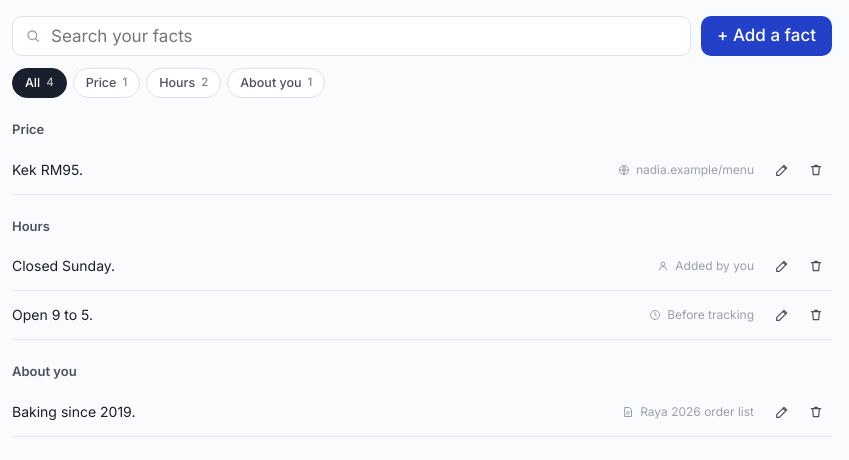
Scenario: FactList › cancelling an edit restores the original claim
Click the button named "Edit fact" in the row of "Kek RM95." at (782, 170), box [766,154,798,186]
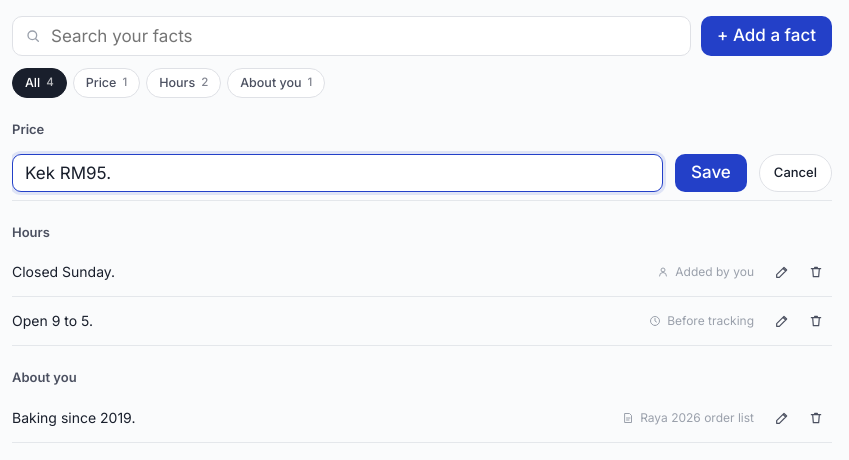
Type " extra" into the field showing "Kek RM95." at (338, 172), box [12,154,663,192]
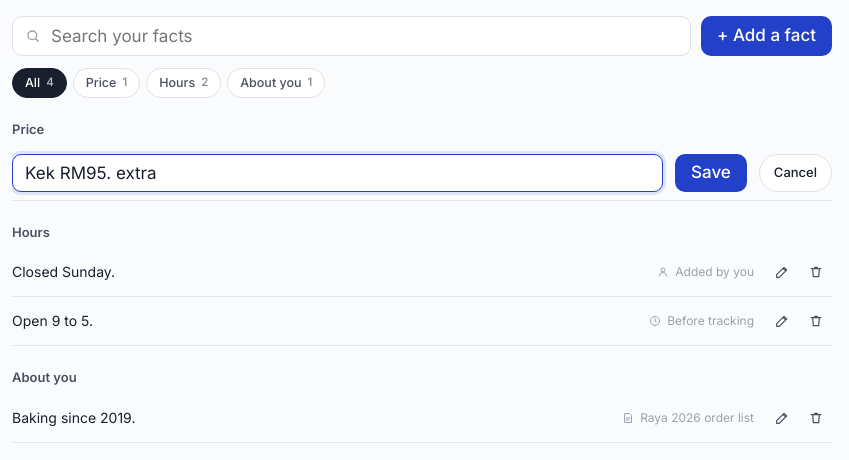
Click the button "Cancel" at (795, 172), box [759,154,832,192]
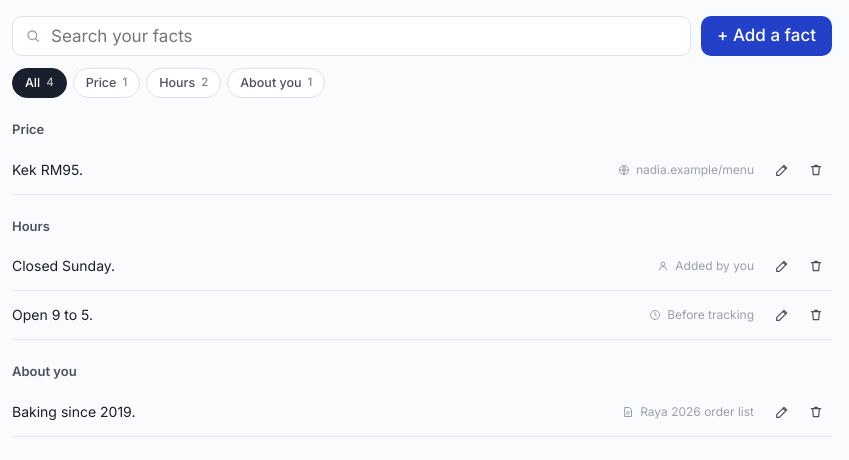
Click the button named "Edit fact" in the row of "Kek RM95." at (782, 170), box [766,154,798,186]
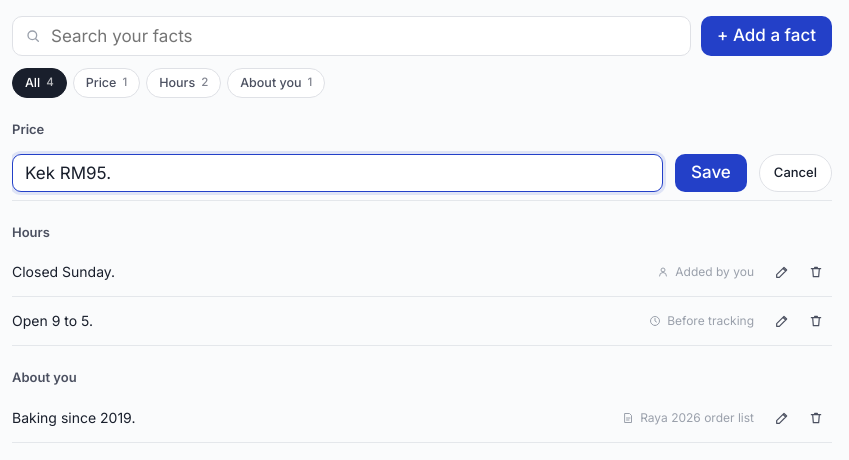
Check: the field showing "Kek RM95." is shown, box [12,154,663,192]
